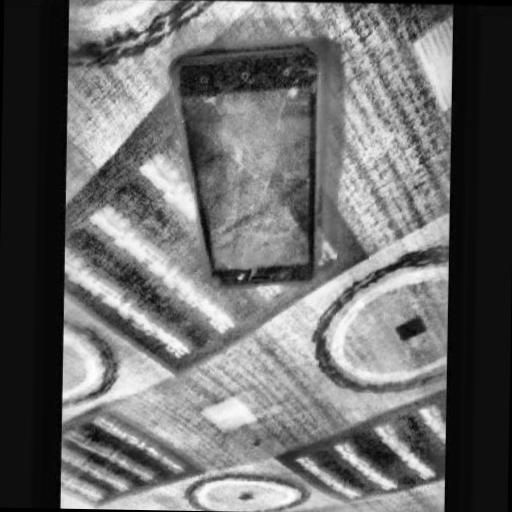phone: (158, 51, 333, 299)
